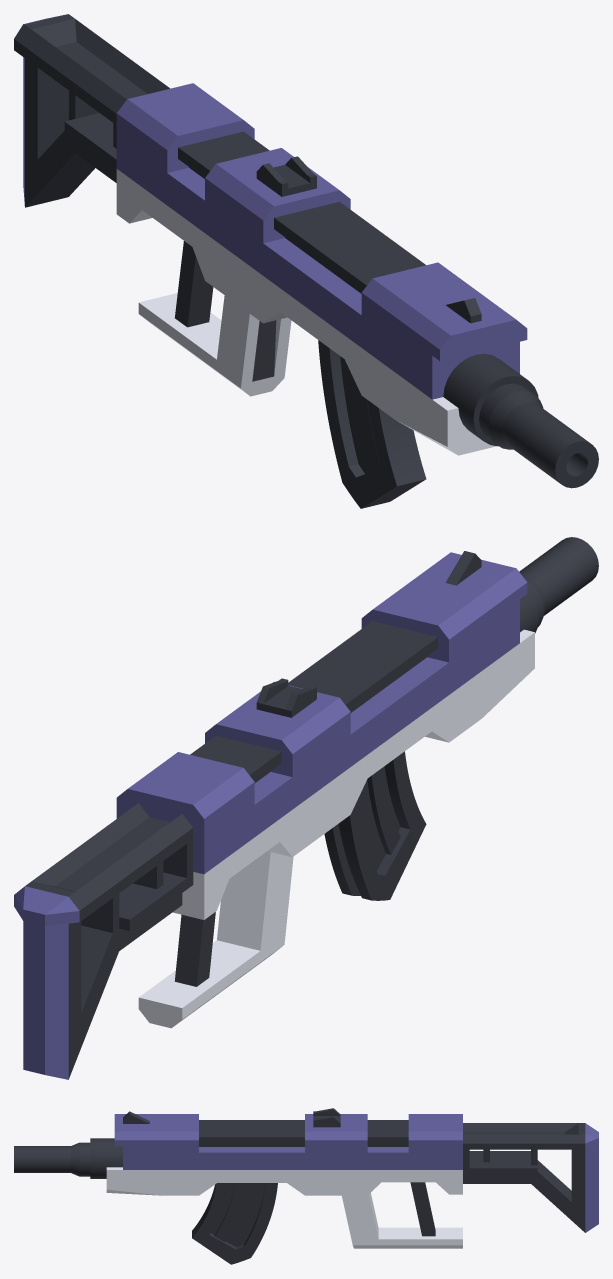
File: Debug-Gun-1.obj
3 views of the same model, one above another, from view 1: azimuth 30°, elevation 25°; view 2: azimuth 150°, elevation 25°; view 3: azimuth 270°, elevation 25° (orthographic). The views are drawn at different scales.
Parts seen in each view (by area): view 1: blaster_handleGuard, blaster_centerDetail, stock_stealth, blaster_barrel, clip_banana, attachment_barrelEnd, detailTargetSight; view 2: blaster_handleGuard, blaster_centerDetail, stock_stealth, clip_banana, blaster_barrel, attachment_barrelEnd, detailTargetSight; view 3: blaster_handleGuard, blaster_centerDetail, stock_stealth, blaster_barrel, clip_banana, attachment_barrelEnd, detailTargetSight, detailTargetSightFront.
Boxes of the visible parts, <box> form: blaster_handleGuard: <box>116,83,293,396</box>; blaster_centerDetail: <box>230,167,470,418</box>; stock_stealth: <box>14,14,169,207</box>; blaster_barrel: <box>394,286,538,455</box>; clip_banana: <box>318,340,426,508</box>; attachment_barrelEnd: <box>479,383,598,488</box>; detailTargetSight: <box>256,156,316,196</box>; blaster_handleGuard: <box>116,705,317,1028</box>; blaster_centerDetail: <box>242,585,481,838</box>; stock_stealth: <box>14,803,193,1079</box>; clip_banana: <box>324,751,426,900</box>; blaster_barrel: <box>405,552,539,717</box>; attachment_barrelEnd: <box>519,537,598,626</box>; detailTargetSight: <box>256,678,316,717</box>; blaster_handleGuard: <box>340,1114,462,1248</box>; blaster_centerDetail: <box>163,1114,340,1195</box>; stock_stealth: <box>463,1123,598,1232</box>; blaster_barrel: <box>90,1114,163,1195</box>; clip_banana: <box>192,1183,277,1264</box>; attachment_barrelEnd: <box>14,1142,90,1176</box>; detailTargetSight: <box>313,1108,340,1127</box>; detailTargetSightFront: <box>123,1111,149,1123</box>.
Size of the model in its own units: 0.4 by 1.2 by 4.3.
